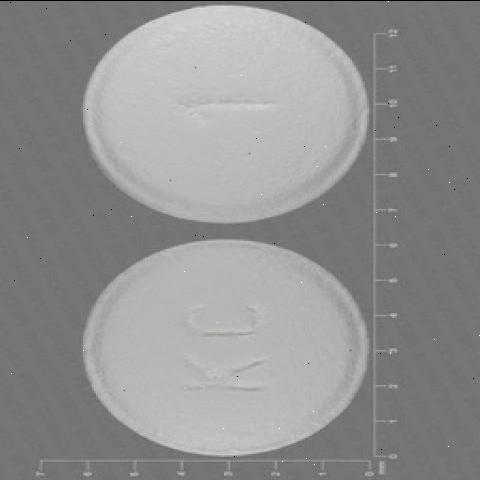Pill: (77, 226, 385, 462), (79, 0, 375, 226)
